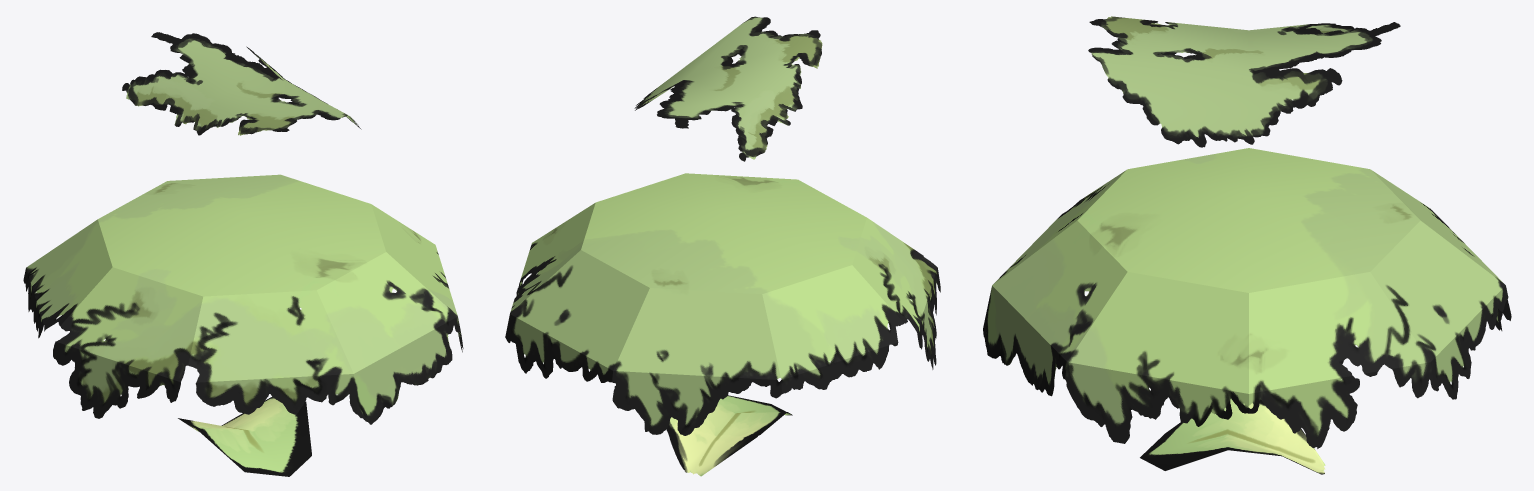
File: Tree_Kit_01.fbx
3 views of the same model, side by side, from view 1: azimuth 30°, elevation 25°; view 2: azimuth 150°, elevation 25°; view 3: azimuth 270°, elevation 25° (orthographic). The views are drawn at different scales.
Visible parts, largest first — view 1: Leaf_Cluster_01, Leaf_Cluster_02, Leaf; view 2: Leaf_Cluster_01, Leaf_Cluster_02, Leaf; view 3: Leaf_Cluster_01, Leaf_Cluster_02, Leaf.
Boxes of the visible parts, bbox=[...] form: Leaf_Cluster_01: bbox=[23, 174, 463, 424]; Leaf_Cluster_02: bbox=[122, 32, 361, 135]; Leaf: bbox=[178, 396, 311, 476]; Leaf_Cluster_01: bbox=[505, 173, 940, 435]; Leaf_Cluster_02: bbox=[634, 16, 822, 161]; Leaf: bbox=[666, 395, 792, 476]; Leaf_Cluster_01: bbox=[983, 148, 1511, 448]; Leaf_Cluster_02: bbox=[1088, 16, 1400, 147]; Leaf: bbox=[1140, 392, 1325, 474].
Size of the model in its own units: 1.71 by 1.52 by 1.71.
